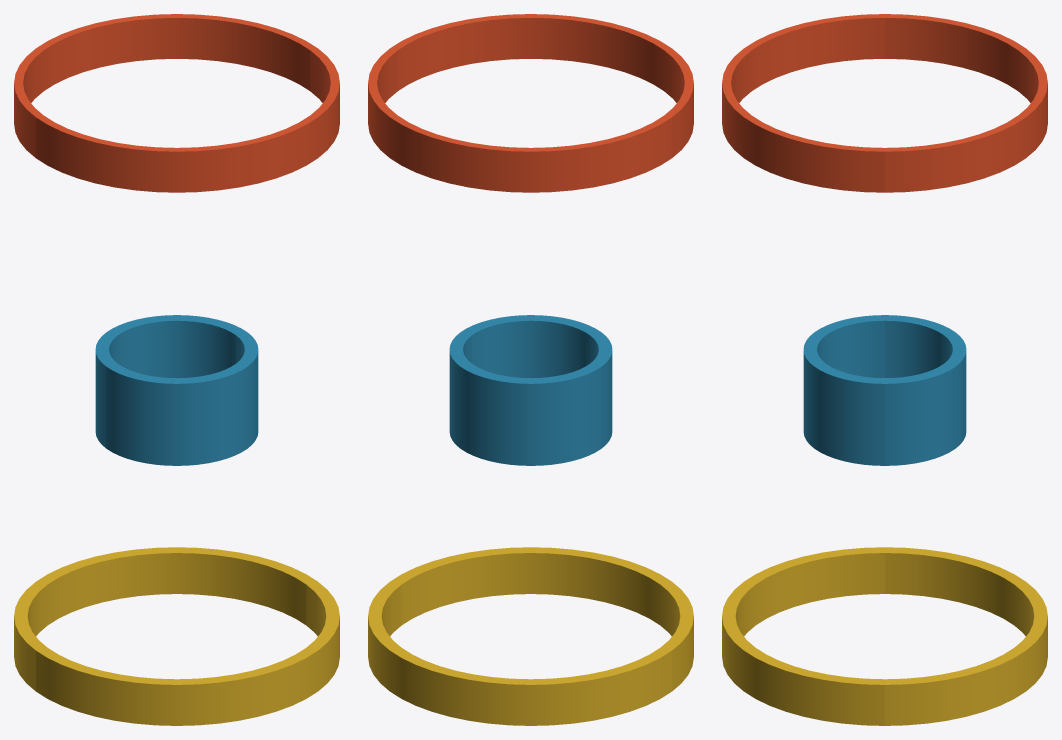
File: wet_scrubber_pressure.glb
3 views of the same model, side by side, from view 1: azimuth 30°, elevation 25°; view 2: azimuth 150°, elevation 25°; view 3: azimuth 270°, elevation 25° (orthographic).
Parts seen in each view (by area): view 1: pressure__front, pressure__back; view 2: pressure__back, pressure__front; view 3: pressure__back, pressure__front.
Boxes of the visible parts, bbox=[...] form: pressure__front: bbox=[36, 48, 339, 725]; pressure__back: bbox=[14, 14, 317, 691]; pressure__back: bbox=[368, 48, 671, 725]; pressure__front: bbox=[390, 14, 693, 691]; pressure__back: bbox=[885, 14, 1047, 725]; pressure__front: bbox=[722, 14, 884, 725].
Size of the model in its own units: 0.72 by 1.4 by 0.72.
